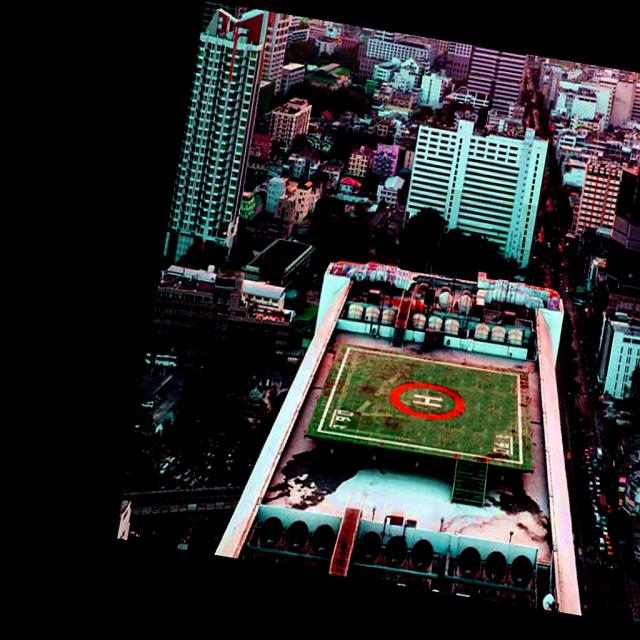helipad: (386, 379, 466, 422)
